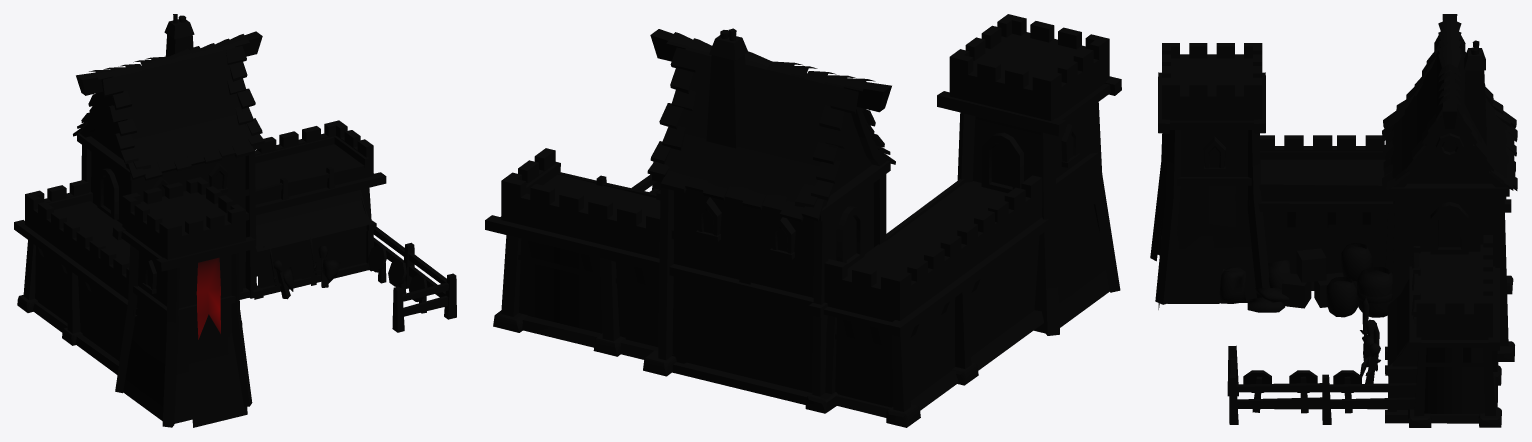
File: barracks_01_LOD_1.fbx
3 views of the same model, side by side, from view 1: azimuth 30°, elevation 25°; view 2: azimuth 150°, elevation 25°; view 3: azimuth 270°, elevation 25° (orthographic). The views are drawn at different scales.
Parts seen in each view (by area): view 1: barracks_01_LOD_1; view 2: barracks_01_LOD_1; view 3: barracks_01_LOD_1.
Boxes of the visible parts, left/top/right/bottom form: barracks_01_LOD_1: left=14, top=14, right=456, bottom=427; barracks_01_LOD_1: left=485, top=14, right=1121, bottom=427; barracks_01_LOD_1: left=1150, top=14, right=1517, bottom=427.
Size of the model in its own units: 18.27 by 14.33 by 15.52.
